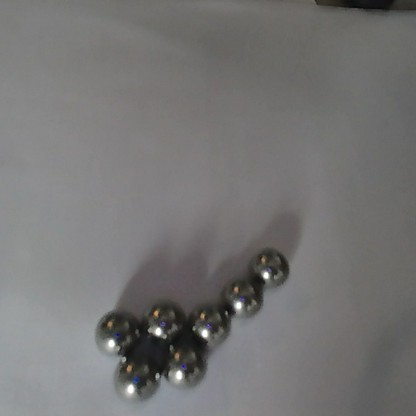ironball: (157, 343, 208, 393), (111, 354, 159, 406), (184, 299, 230, 352), (91, 308, 141, 356), (219, 276, 264, 316), (248, 245, 289, 288), (143, 299, 182, 342)
